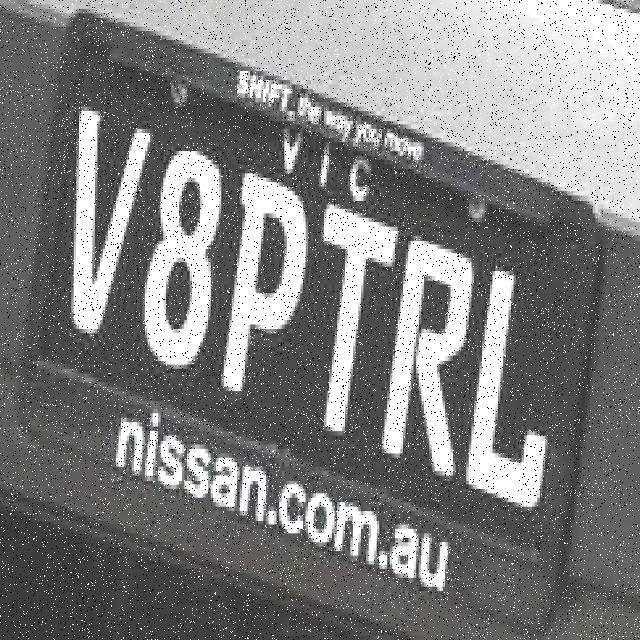licenseplate: (17, 7, 603, 640)
